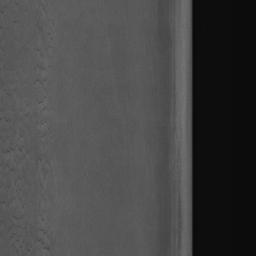Silk spot: (8, 222, 56, 251), (26, 146, 50, 168), (34, 11, 43, 36), (2, 143, 24, 153), (0, 78, 12, 96), (22, 240, 35, 256), (0, 114, 17, 125), (0, 160, 15, 171), (34, 64, 45, 70)
